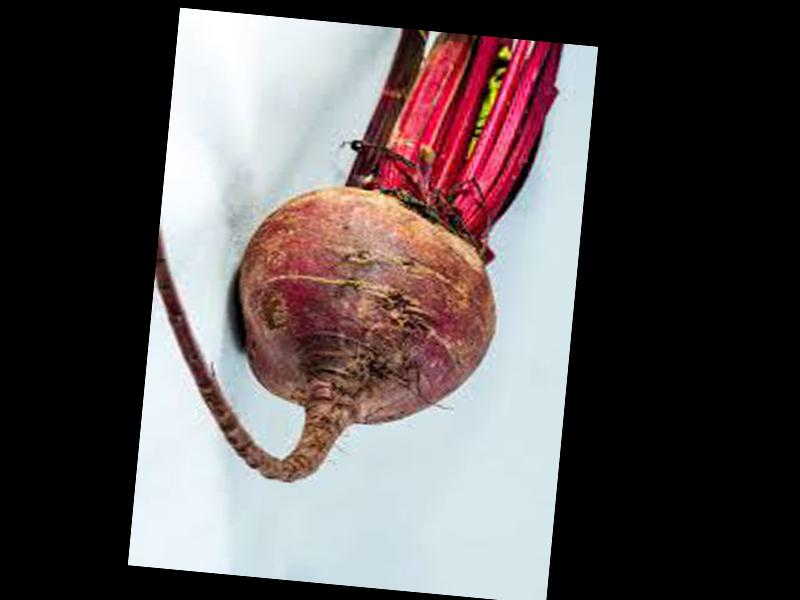Beet: (141, 7, 565, 504)
